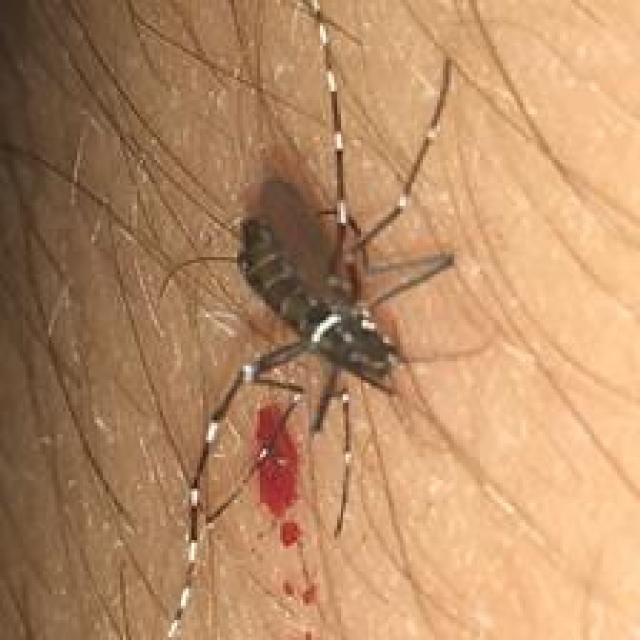Aedes albopictus: (129, 0, 577, 640)
